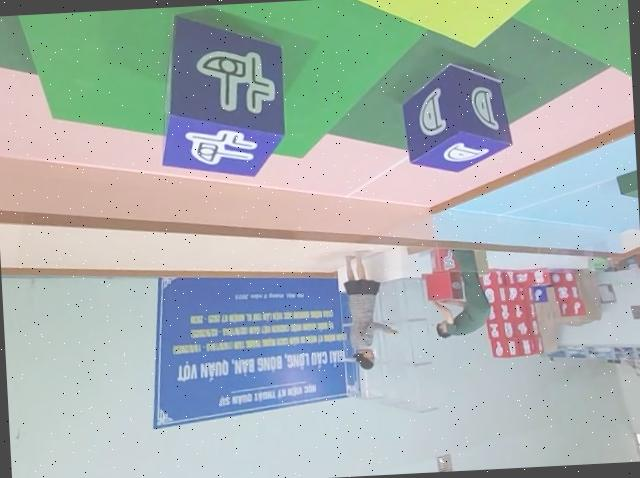R2 Real Blue: (153, 11, 288, 184), (396, 56, 511, 172)
